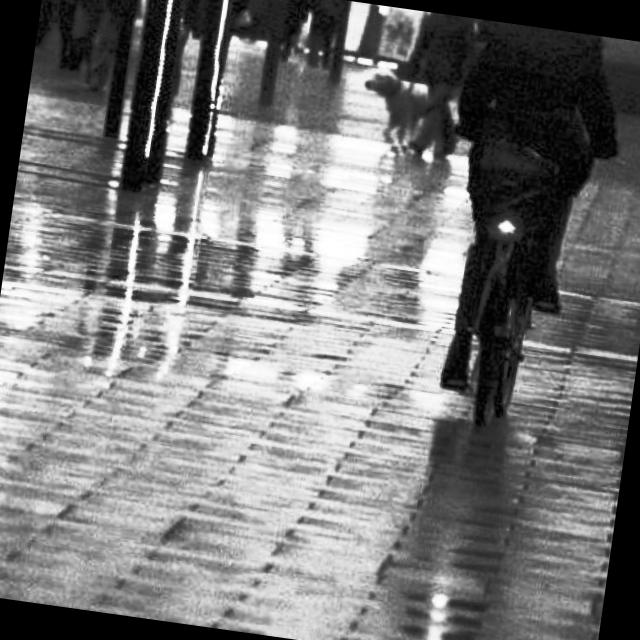Bicycle: (380, 135, 630, 452)
